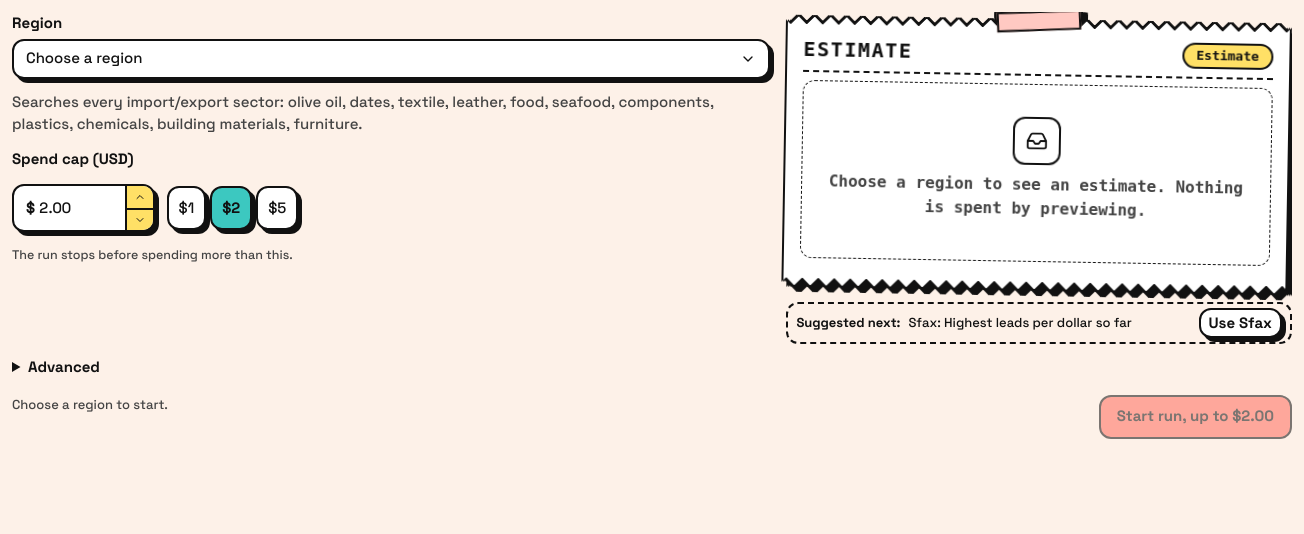
Test: Start a run: spend cap limits › says the cap is too high instead of showing it, and sends nothing
The width and height of the screenshot is (1304, 534).
Click the dropdown labelled "region". click: (84, 58)
box: x1=12 y1=38 x2=770 y2=78
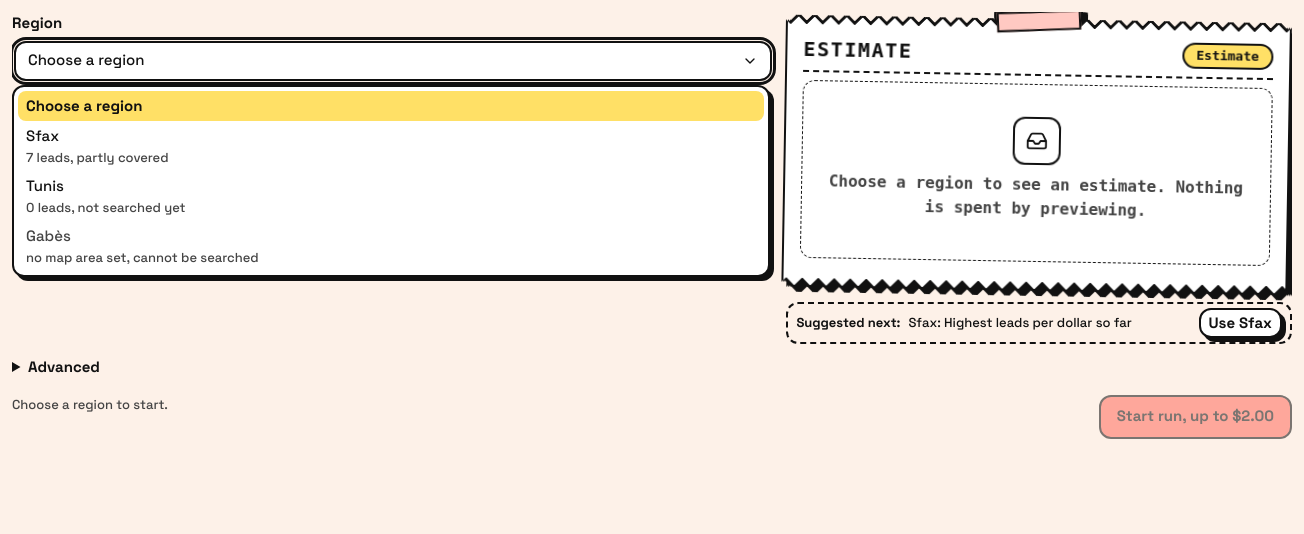
Click the option "Sfax 7 leads, partly covered". click: (97, 146)
box: x1=26 y1=126 x2=168 y2=166
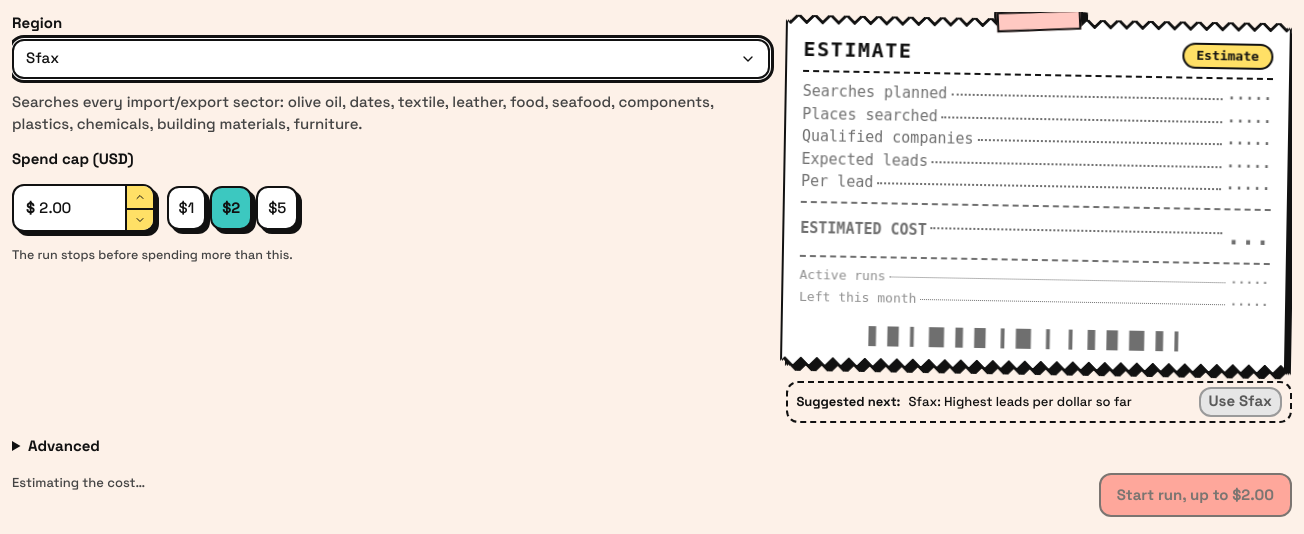
Replace the text in the number field labelled "Spend cap (USD)" with "5000000". click: (80, 208)
box: x1=35 y1=186 x2=124 y2=230
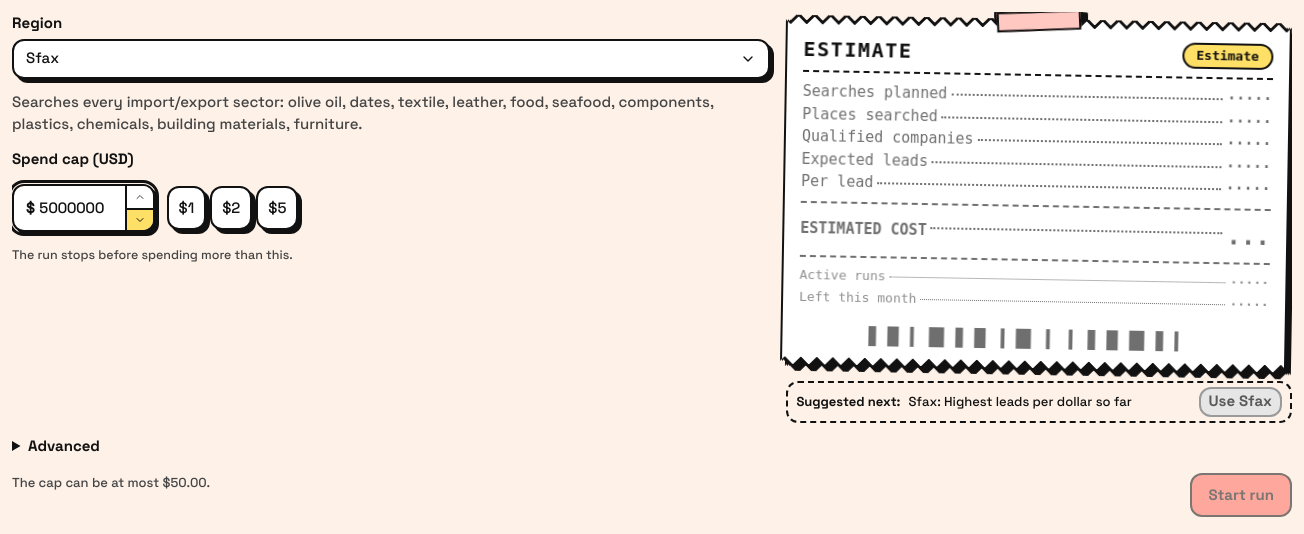
Press Tab
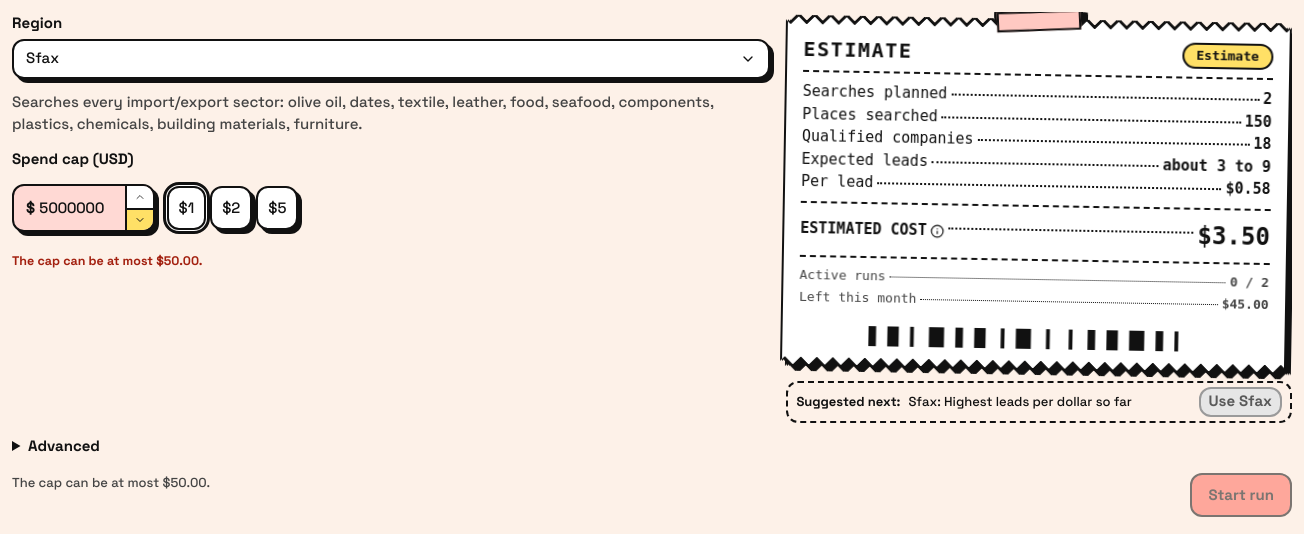
Expected: the button "Start run" does not show "5,000,000", x1=1190 y1=473 x2=1292 y2=517
Expected: the text "The cap can be at most $50.00." is shown, x1=12 y1=253 x2=203 y2=269
